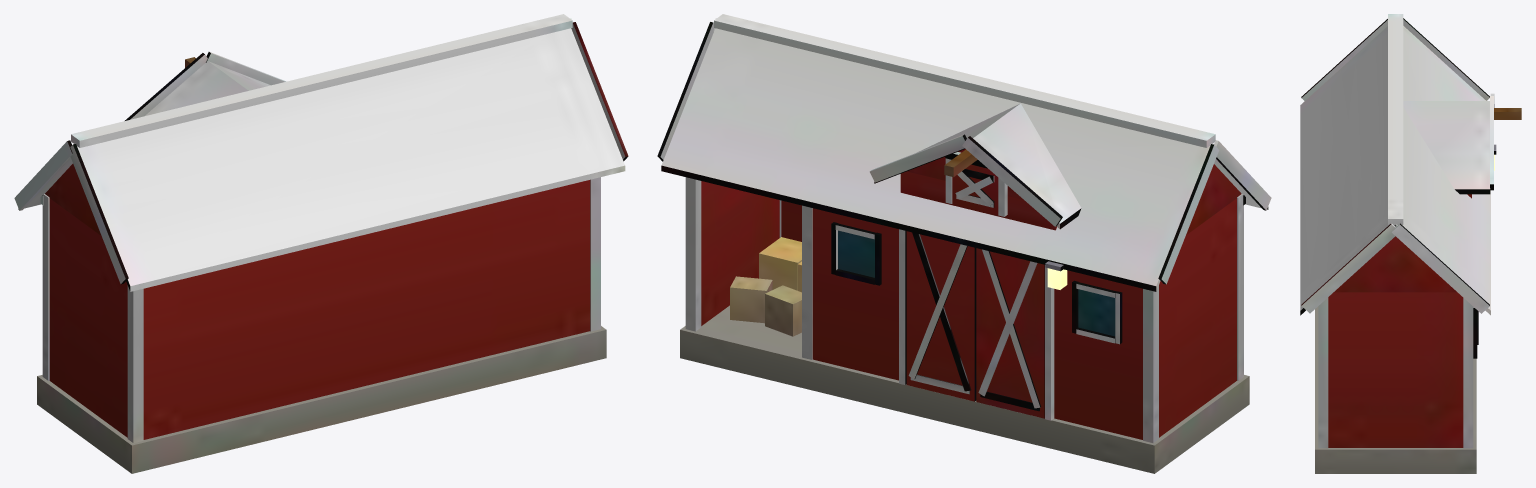
The model's file is storehouse_4_low.glb.
3 views of the same model, side by side, from view 1: azimuth 30°, elevation 25°; view 2: azimuth 150°, elevation 25°; view 3: azimuth 270°, elevation 25° (orthographic). The views are drawn at different scales.
Parts seen in each view (by area): view 1: shed4_red_low; view 2: shed4_red_low, door_r, door_l; view 3: shed4_red_low.
Part boxes in pixels (left/top/right/bottom): shed4_red_low: left=14, top=14, right=628, bottom=473; shed4_red_low: left=657, top=14, right=1271, bottom=473; door_r: left=906, top=231, right=976, bottom=401; door_l: left=976, top=248, right=1044, bottom=418; shed4_red_low: left=1300, top=14, right=1521, bottom=473.
Bounding box in the file's own units: 6.5 × 3.74 × 2.9.
6 materials, 6 textured.
